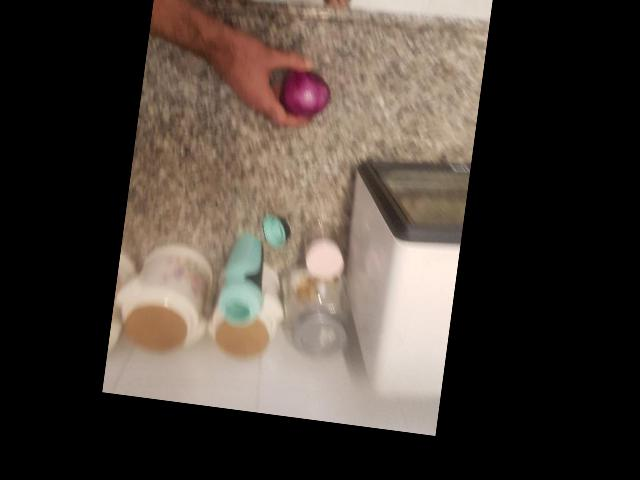onion: (414, 220, 492, 295)
